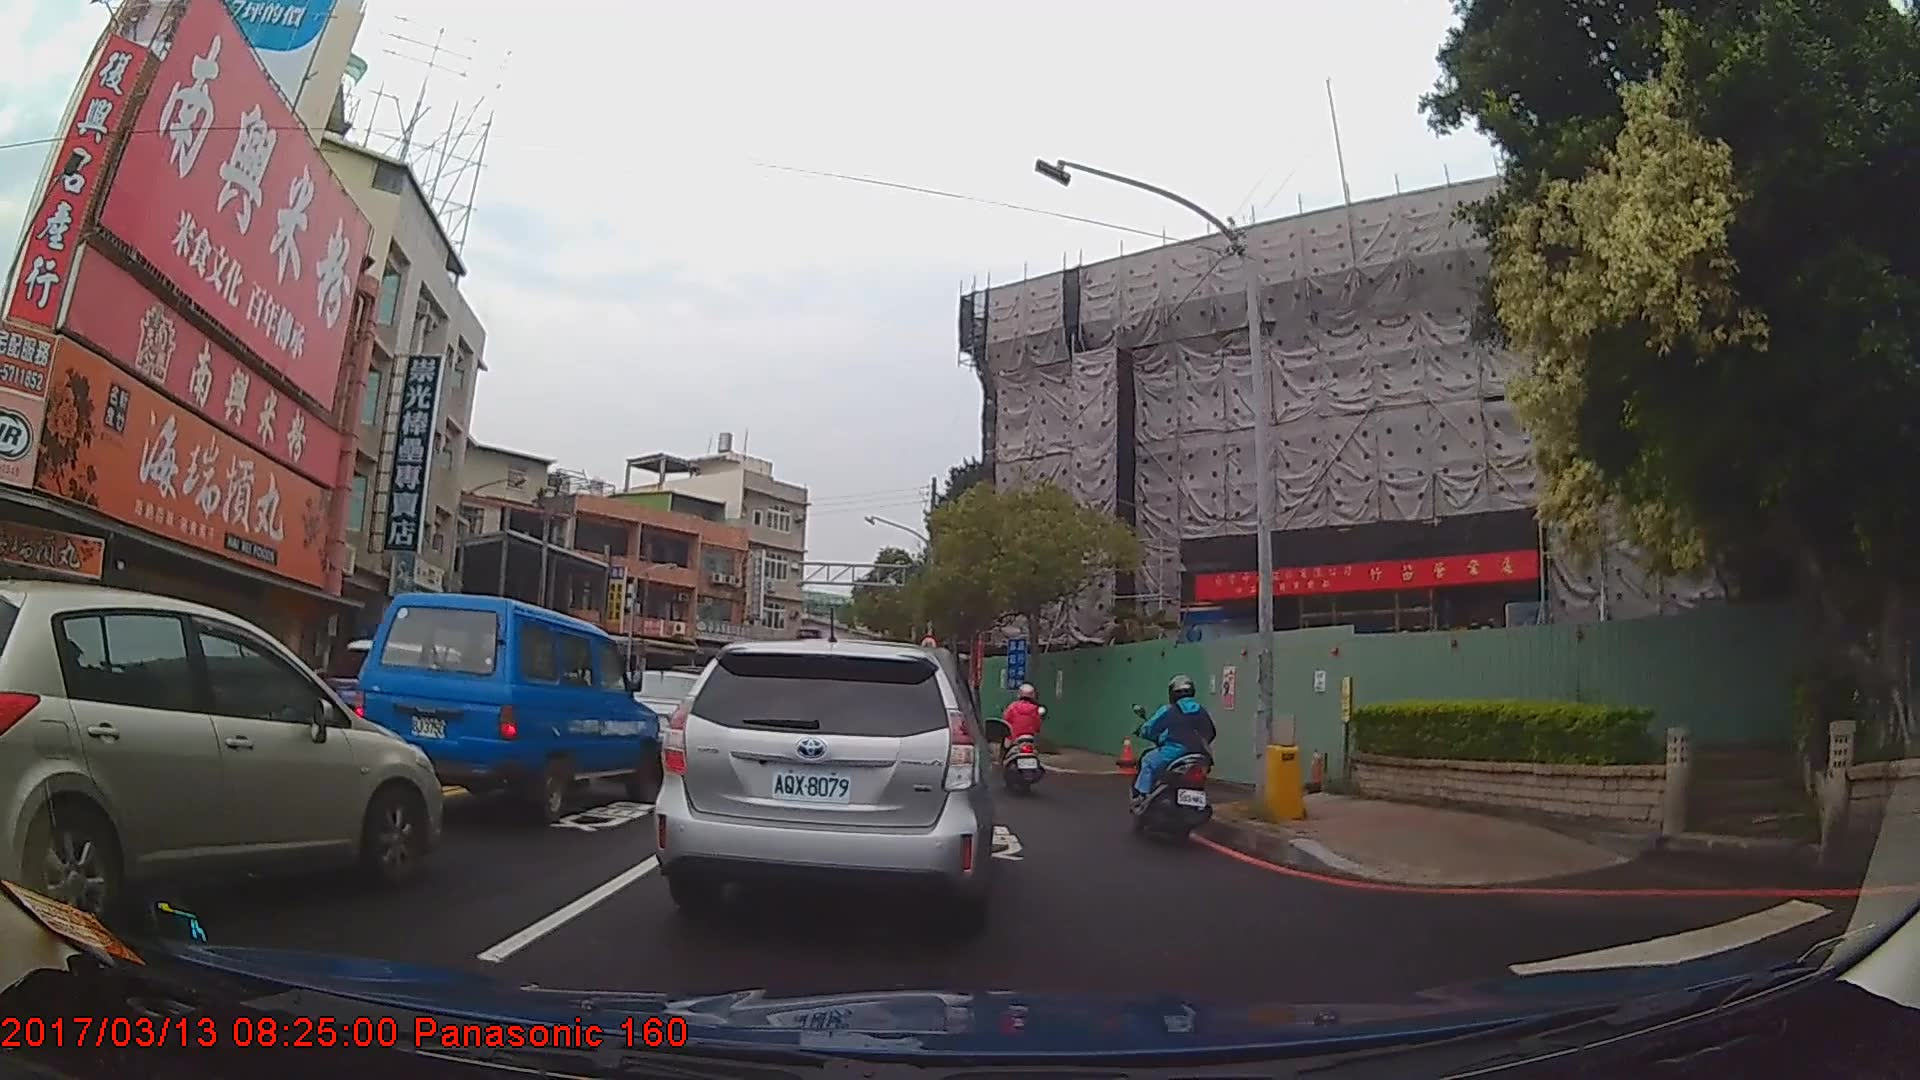rider: (1134, 677, 1222, 850), (998, 685, 1052, 797)
vehicle: (0, 579, 443, 938), (650, 636, 998, 939), (352, 591, 661, 821)
